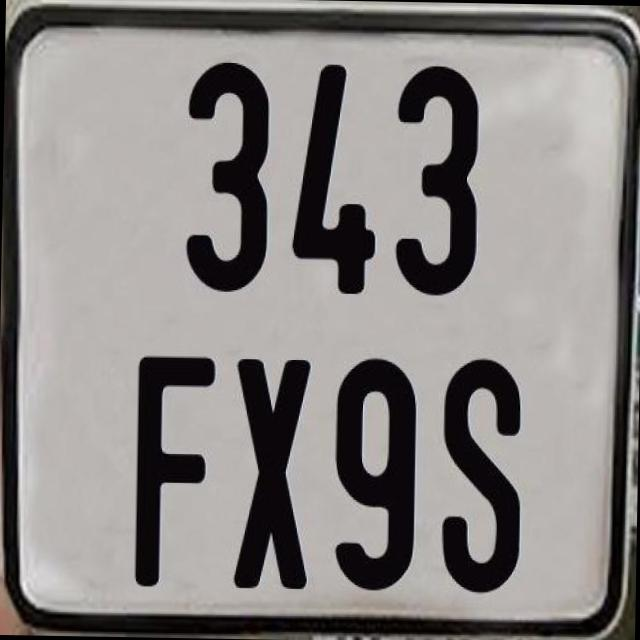3: (180, 57, 270, 297), (390, 64, 478, 294)
4: (288, 58, 376, 292)
9: (332, 357, 423, 597)
F: (133, 352, 221, 593)
S: (438, 356, 525, 599)
X: (230, 356, 312, 592)
